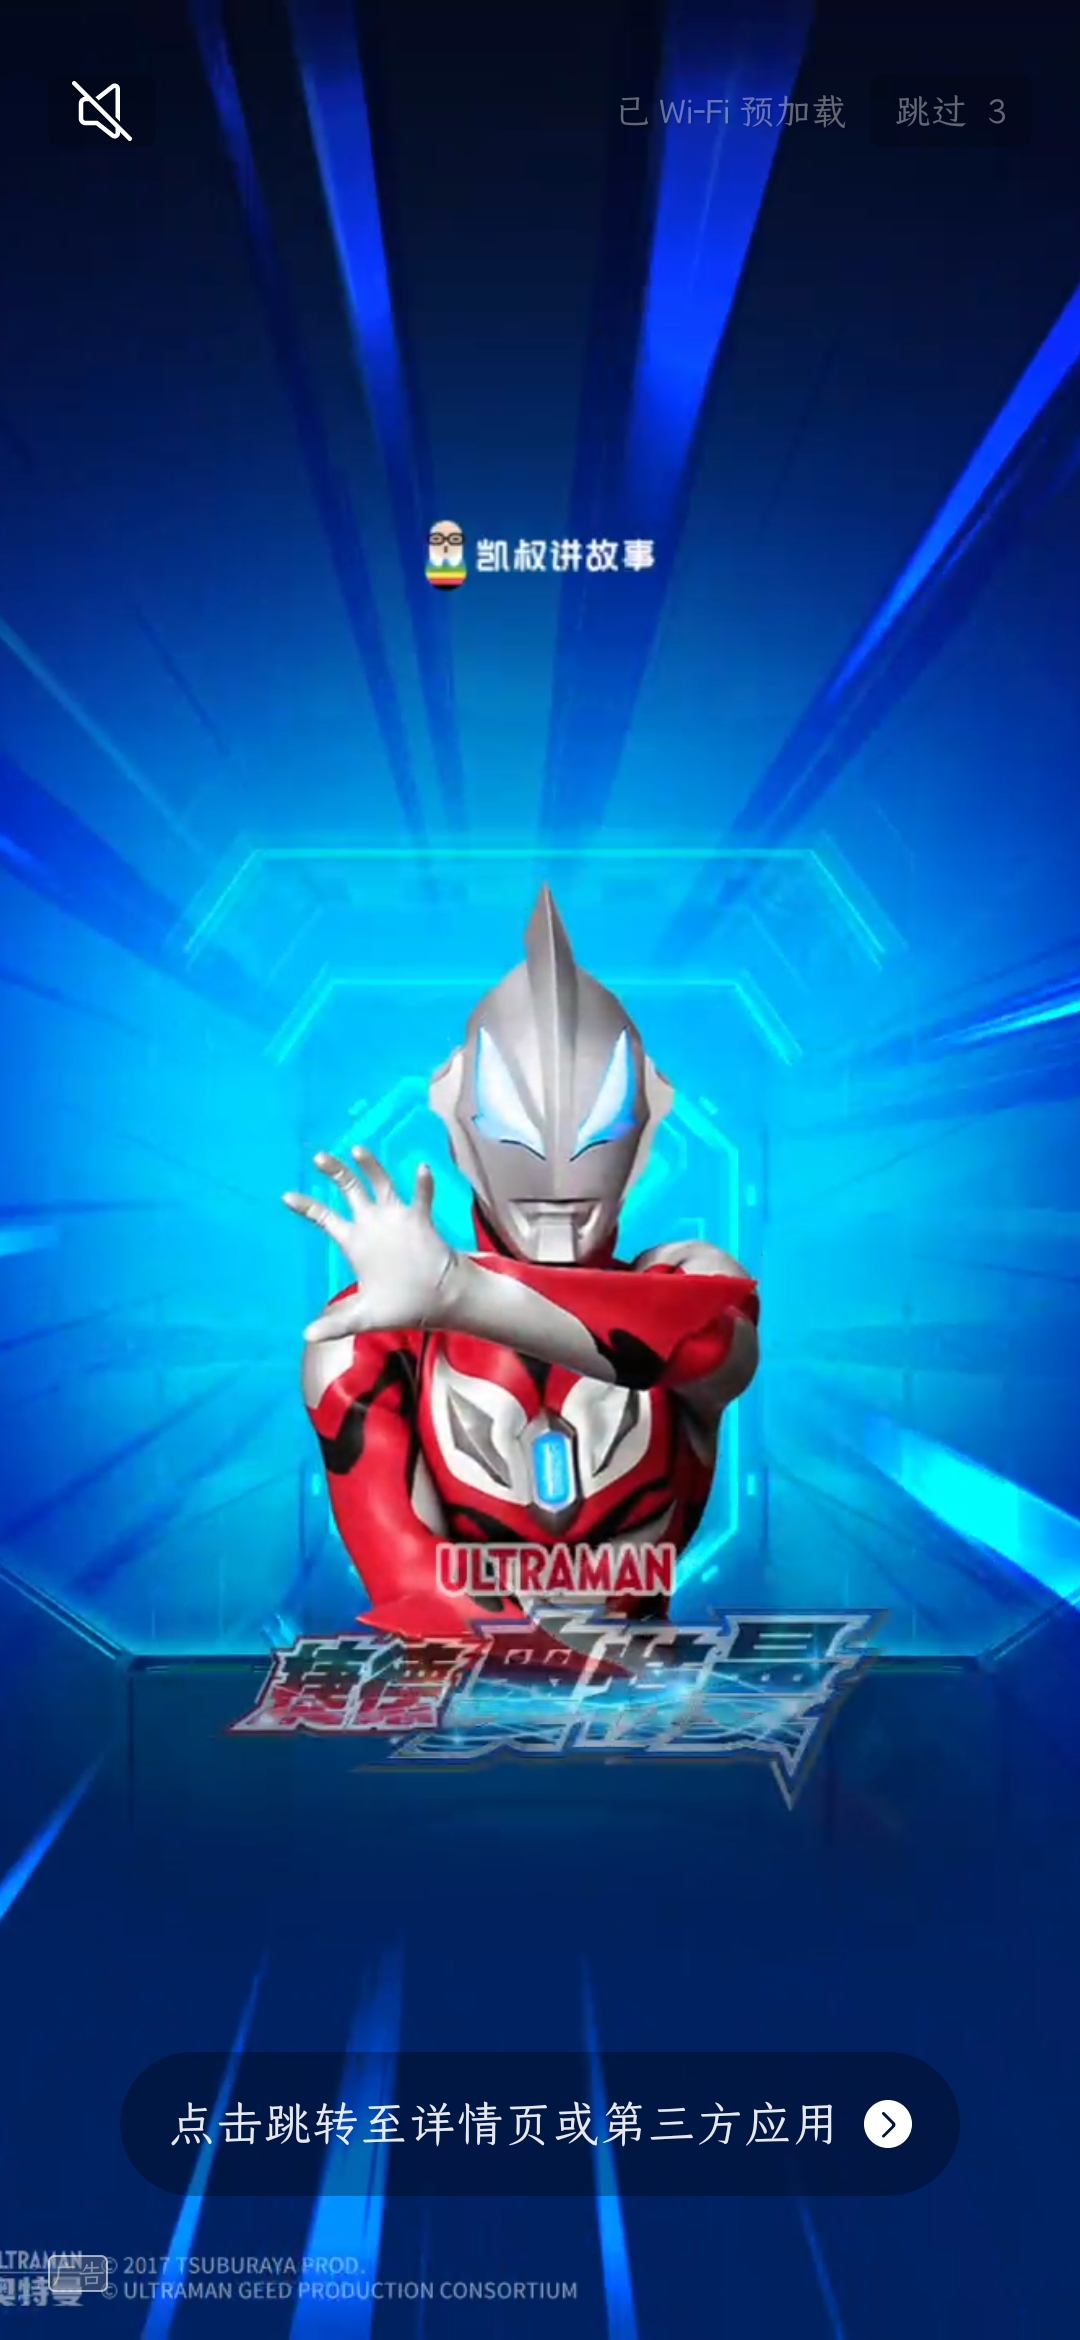skip: (889, 75, 1017, 137)
